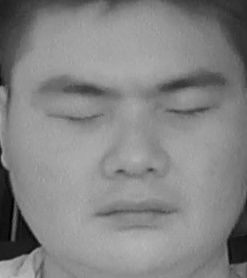blink: (47, 98, 106, 137), (160, 91, 217, 127)
mouth: (99, 188, 179, 234)
